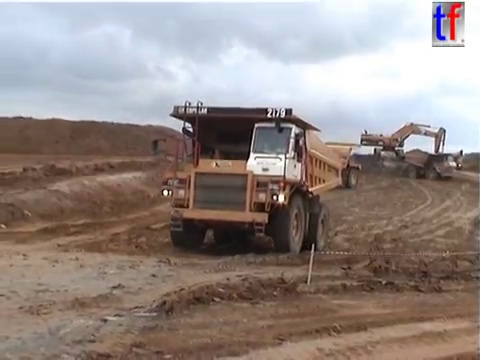excavator: (358, 120, 448, 166), (431, 148, 464, 172)
truck: (148, 99, 345, 255), (272, 140, 362, 190), (399, 149, 456, 181)
